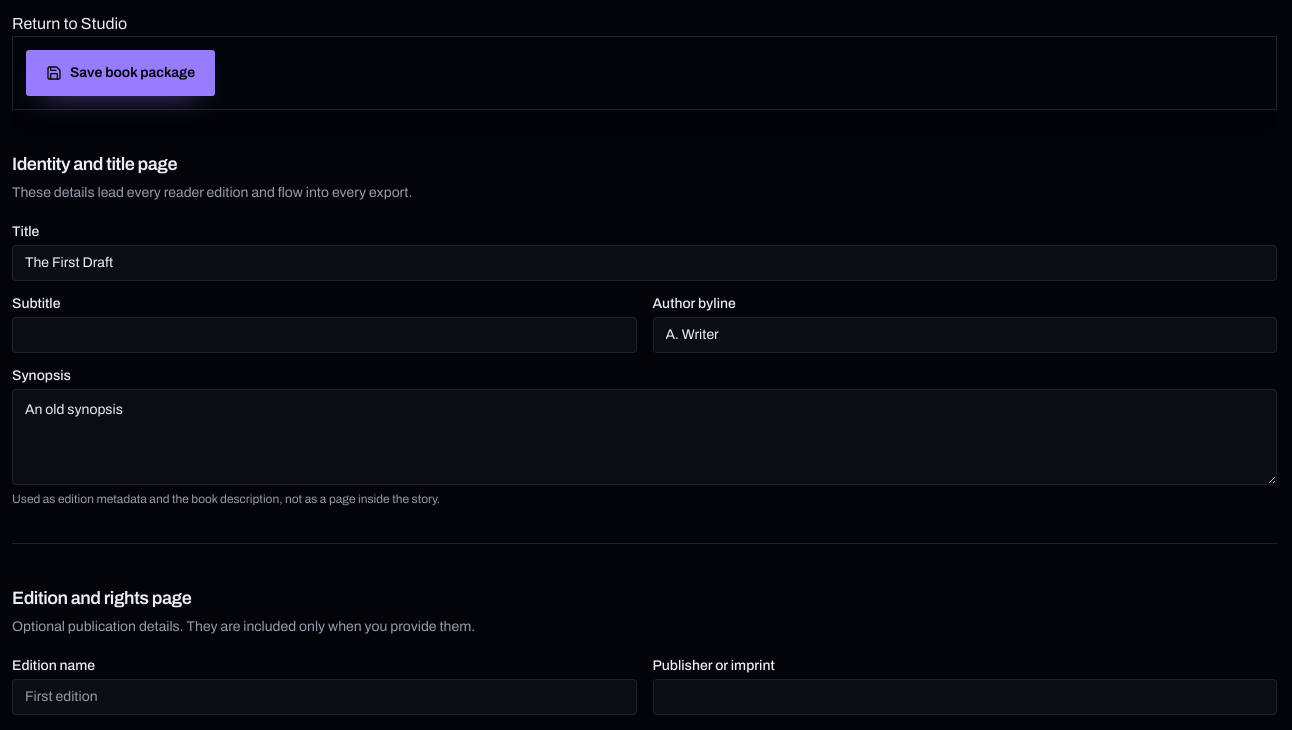
BookPackageForm › does not let an older successful response mark a newer edit as saved
Replace the text in the field labelled "Title" with "Submitted title" at x=644, y=263, box [12,245,1277,281]
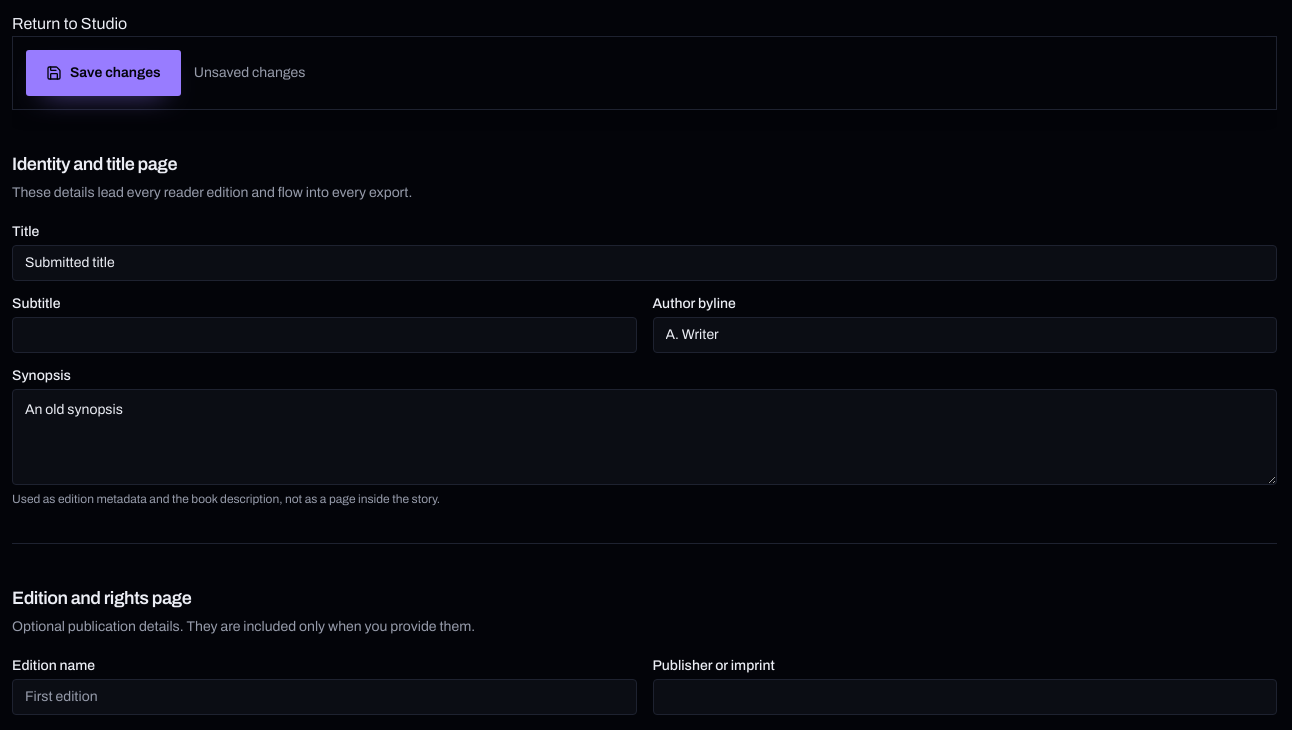
Click the button "Save changes" at x=103, y=73, box [25,49,182,97]
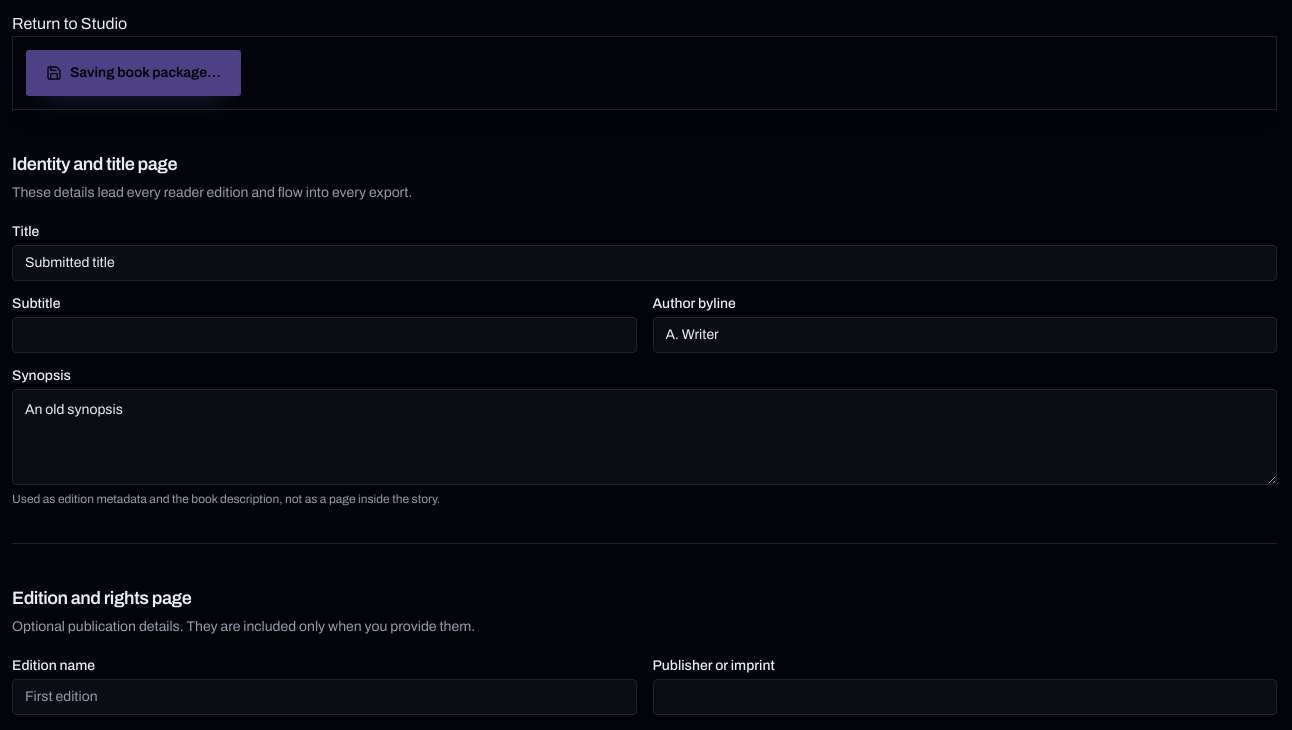
Now the button "Saving book package…" is disabled, box [25,49,242,97]
Type "Edited while saving" into the field labelled "Subtitle" at x=324, y=335, box [12,317,636,353]
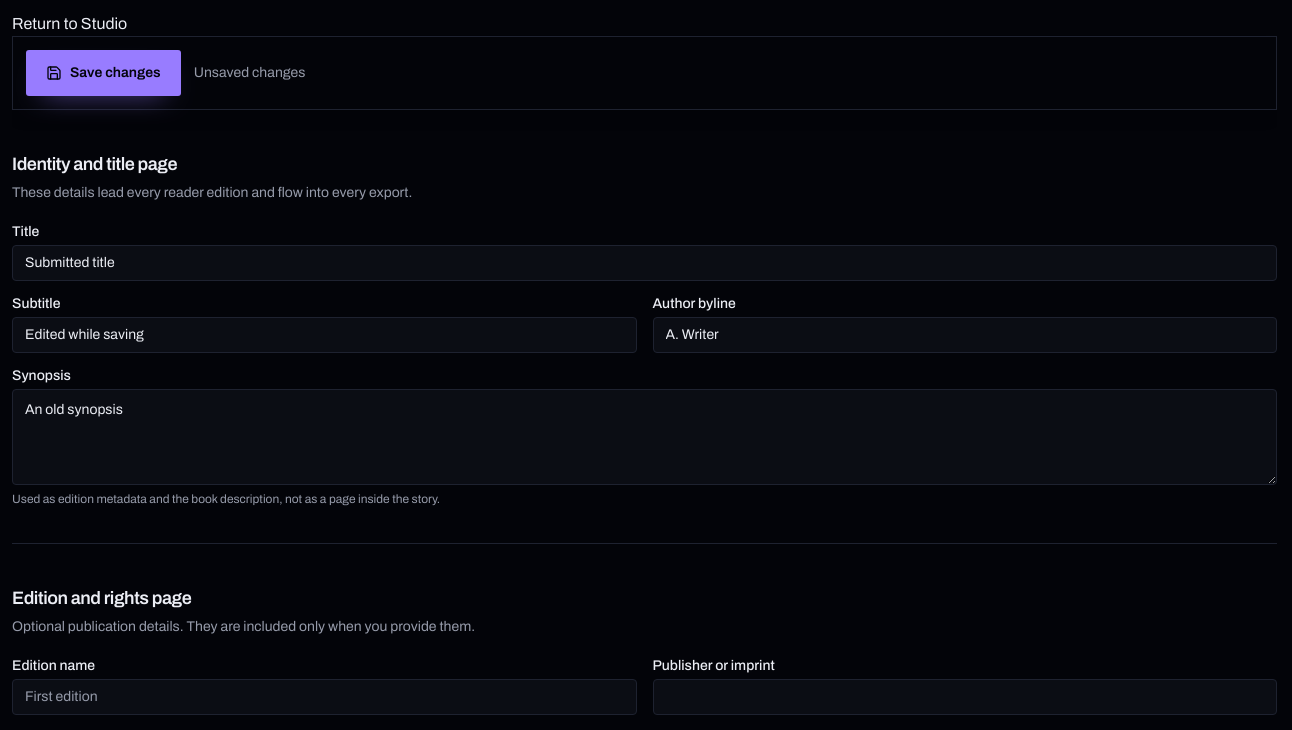
Now the button "Save changes" is enabled, box [25,49,182,97]
Now the text "Unsaved changes" is shown, box [194,63,305,83]
